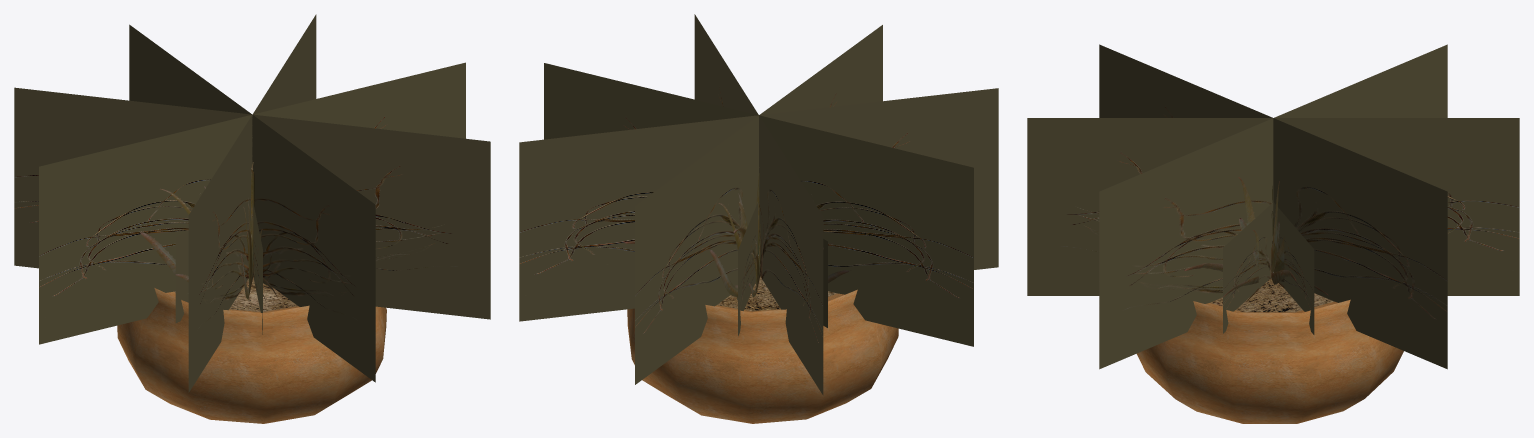
File: Model_Plant_Potted_01.fbx
3 views of the same model, side by side, from view 1: azimuth 30°, elevation 25°; view 2: azimuth 150°, elevation 25°; view 3: azimuth 270°, elevation 25° (orthographic).
Visible parts, largest first — view 1: Potted_Plant_01; view 2: Potted_Plant_01; view 3: Potted_Plant_01.
Boxes of the visible parts, x1,y1,x2,y2 form: Potted_Plant_01: (14, 14, 490, 423); Potted_Plant_01: (519, 14, 998, 423); Potted_Plant_01: (1027, 44, 1519, 423).
Size of the model in its own units: 86.87 by 55.2 by 86.87.
